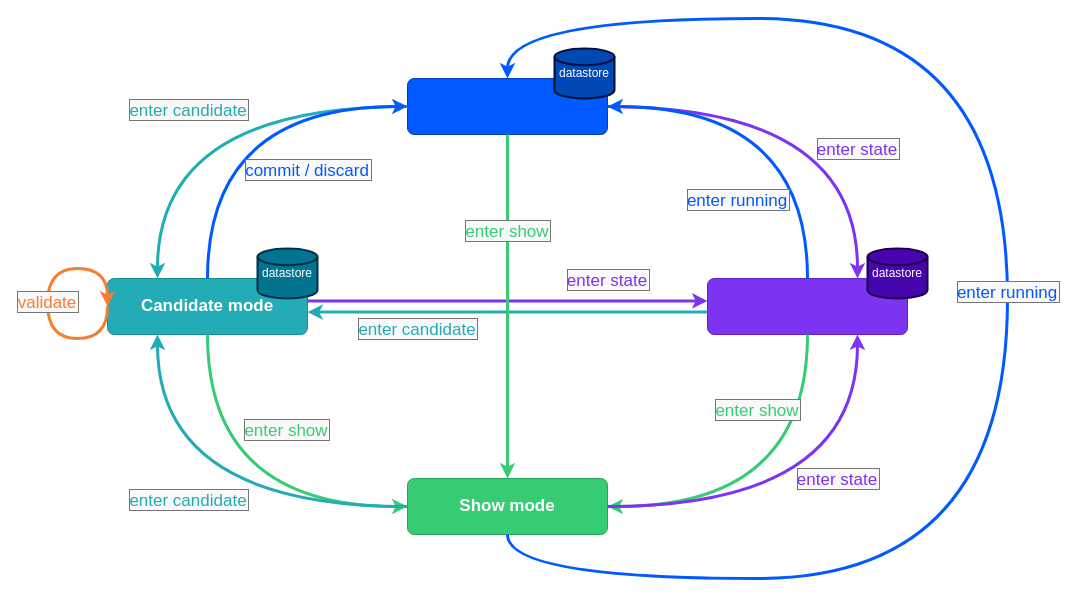
Image size: 1076x597. Some labels were removed from this diagram. Each missing label, with the centre of its shape:
"Running mode" belongs at point (507, 106).
"State mode" belongs at point (807, 306).
